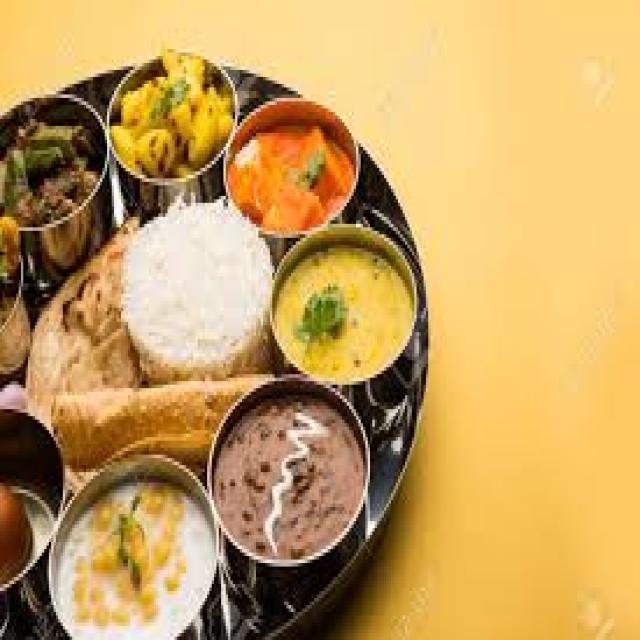curd: (51, 471, 221, 640)
dal: (273, 221, 424, 405)
rice: (120, 192, 272, 384)
sambar-rasam: (220, 98, 360, 238), (4, 457, 50, 595)
sweet: (3, 98, 104, 244), (5, 452, 53, 594)
veg-fry: (213, 385, 377, 577), (224, 92, 360, 244)
